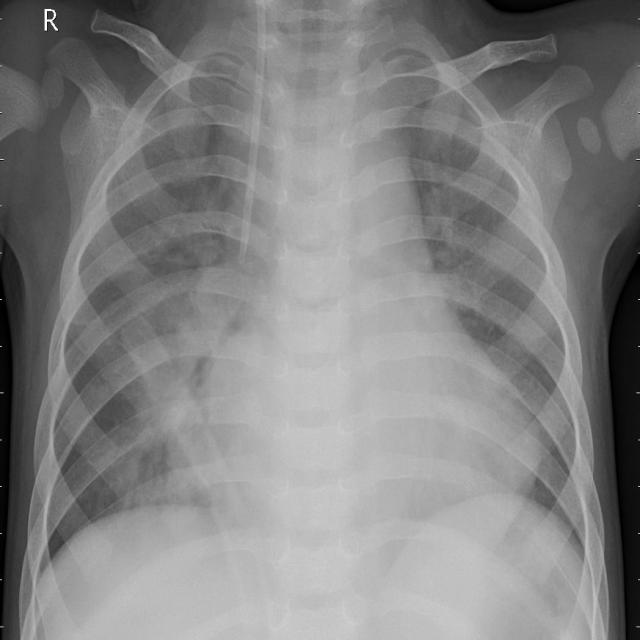bacterial_pneumonia: (1, 0, 640, 640)
